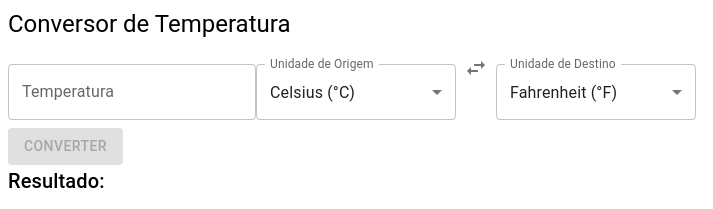
Test: ConversorTemperatura › converte temperatura ao submeter o formulario
In the number field labelled "Temperatura": point(132, 92) [8,64,256,120], type "100"
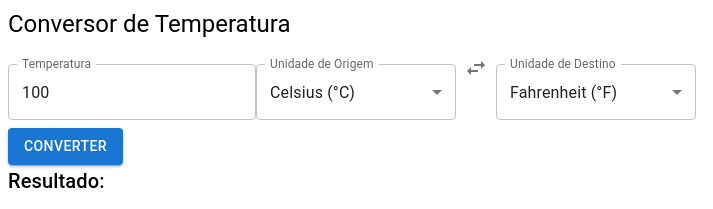
Click the button "Converter": point(65, 147) [8,128,123,165]
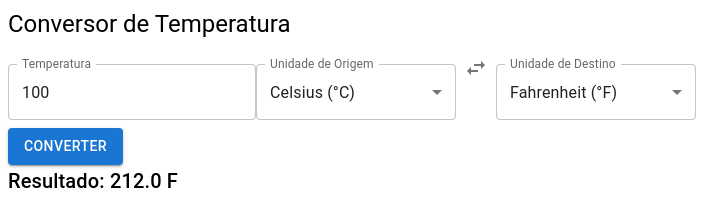
expect the heading "Resultado: 212.0 F" is shown: met, box [8,169,178,193]
